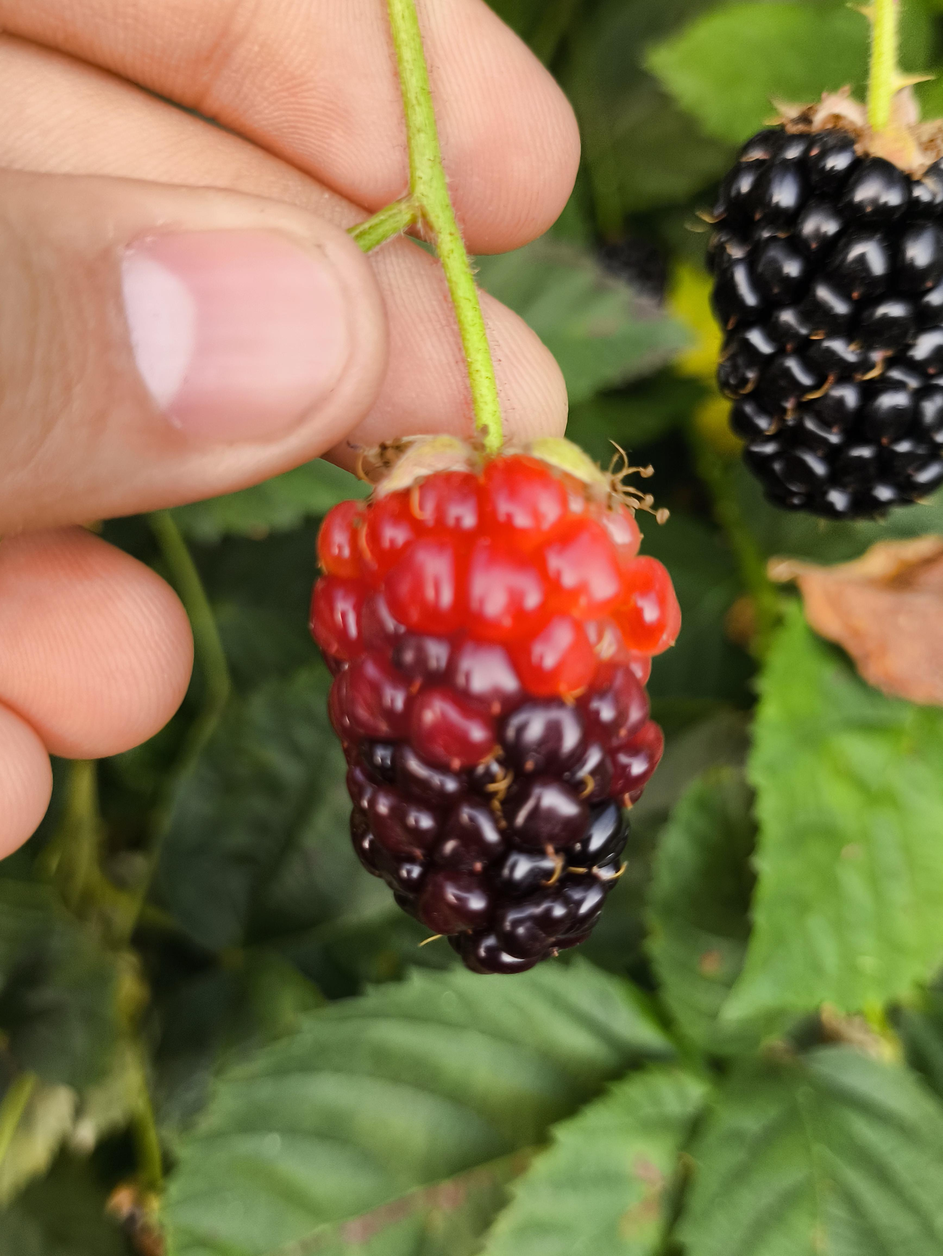maduro: (721, 128, 941, 513)
marron: (331, 443, 667, 970)
